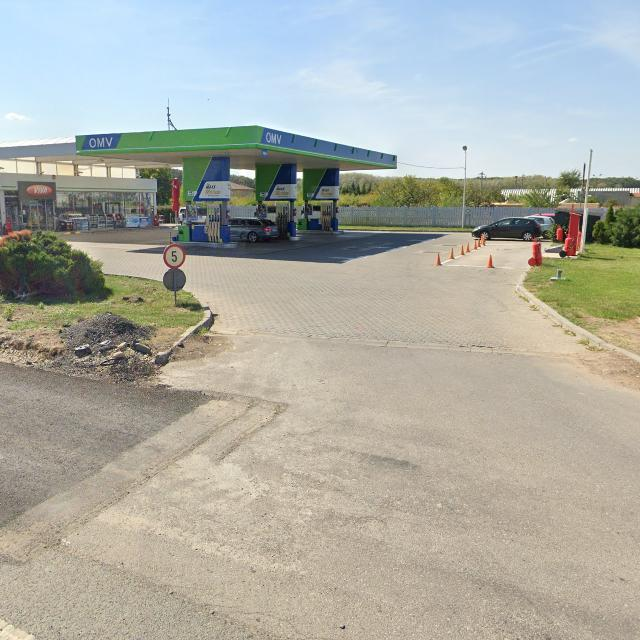forb_speed_over_5: (163, 244, 184, 268)
